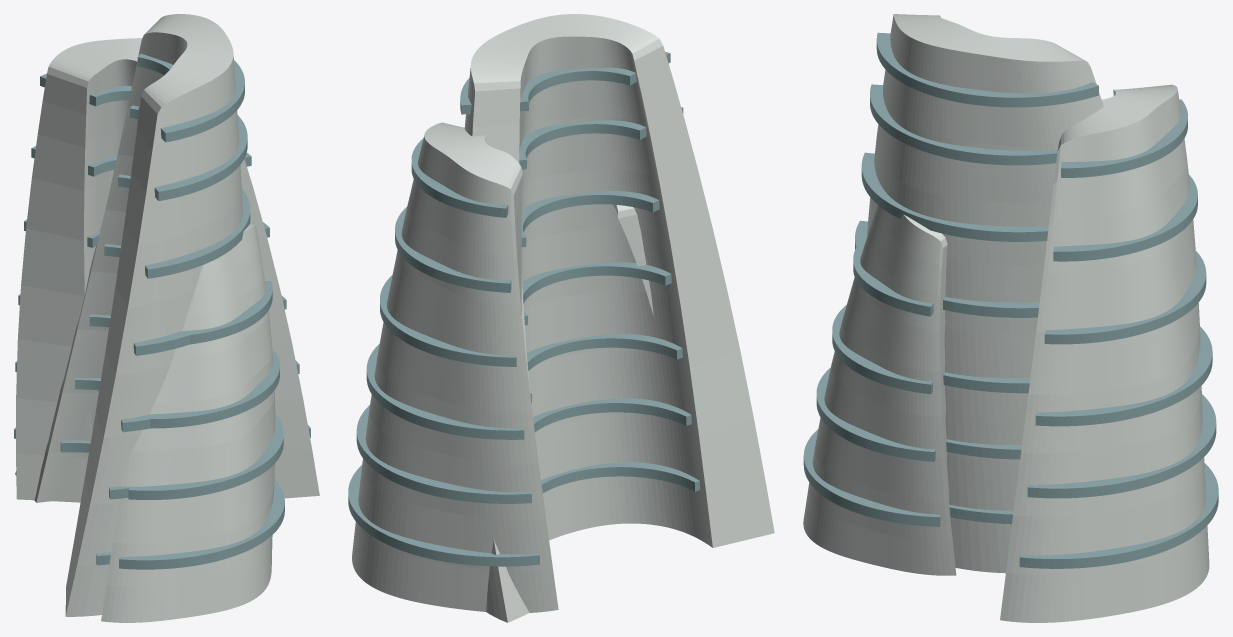
The model's file is A_massing.glb.
The picture shows the model from 3 angles, left to right: view 1: azimuth 30°, elevation 25°; view 2: azimuth 150°, elevation 25°; view 3: azimuth 270°, elevation 25°; orthographic projection. The views are drawn at different scales.
Visible parts, largest first — view 1: URBAN_BACK_0, URBAN_BACK_2, URBAN_BACK_1, CITY_GROUND_2_0_1, CITY_GROUND_2_1_1, CITY_GROUND_2_2_1, CITY_GROUND_0_4_1, CITY_GROUND_0_5_1, CITY_GROUND_0_6_1, CITY_GROUND_2_3_1, CITY_GROUND_0_3_1, CITY_GROUND_1_5_-1 (+2 smaller); view 2: URBAN_BACK_0, URBAN_BACK_1, CITY_GROUND_1_0_1, CITY_GROUND_1_1_1, CITY_GROUND_1_2_1, CITY_GROUND_0_1_-1, CITY_GROUND_1_3_1, CITY_GROUND_0_0_-1, CITY_GROUND_0_2_-1, CITY_GROUND_0_3_-1, CITY_GROUND_0_4_-1, CITY_GROUND_0_5_-1 (+4 smaller); view 3: URBAN_BACK_1, URBAN_BACK_0, URBAN_BACK_2, CITY_GROUND_0_6_1, CITY_GROUND_1_0_1, CITY_GROUND_1_1_1, CITY_GROUND_0_5_1, CITY_GROUND_1_2_1, CITY_GROUND_0_4_1, CITY_GROUND_1_3_1, CITY_GROUND_1_4_1, CITY_GROUND_2_0_1 (+8 smaller).
Boxes of the visible parts, box(x1,y1,x2,y2) form: URBAN_BACK_0: box(15, 14, 242, 616); URBAN_BACK_2: box(101, 223, 275, 622); URBAN_BACK_1: box(16, 38, 319, 502); CITY_GROUND_2_0_1: box(119, 480, 284, 569); CITY_GROUND_2_1_1: box(128, 414, 283, 499); CITY_GROUND_2_2_1: box(138, 351, 279, 428); CITY_GROUND_0_4_1: box(145, 188, 250, 278); CITY_GROUND_0_5_1: box(154, 115, 247, 200); CITY_GROUND_0_6_1: box(160, 60, 244, 142); CITY_GROUND_2_3_1: box(163, 281, 272, 344); CITY_GROUND_0_3_1: box(133, 329, 205, 355); CITY_GROUND_1_5_-1: box(89, 85, 131, 106); URBAN_BACK_0: box(464, 14, 774, 622); URBAN_BACK_1: box(352, 122, 558, 612); CITY_GROUND_1_0_1: box(348, 465, 539, 566); CITY_GROUND_1_1_1: box(356, 405, 531, 503); CITY_GROUND_1_2_1: box(366, 344, 524, 439); CITY_GROUND_0_1_-1: box(533, 398, 691, 432); CITY_GROUND_1_3_1: box(380, 275, 516, 366); CITY_GROUND_0_0_-1: box(541, 462, 699, 493); CITY_GROUND_0_2_-1: box(526, 334, 682, 402); CITY_GROUND_0_3_-1: box(522, 262, 671, 325); CITY_GROUND_0_4_-1: box(521, 191, 659, 247); CITY_GROUND_0_5_-1: box(519, 120, 646, 169); URBAN_BACK_1: box(1000, 84, 1209, 622); URBAN_BACK_0: box(867, 14, 1103, 573); URBAN_BACK_2: box(803, 205, 956, 575); CITY_GROUND_0_6_1: box(876, 32, 1098, 107); CITY_GROUND_1_0_1: box(1019, 463, 1218, 568); CITY_GROUND_1_1_1: box(1027, 394, 1216, 498); CITY_GROUND_0_5_1: box(870, 84, 1057, 165); CITY_GROUND_1_2_1: box(1035, 326, 1212, 426); CITY_GROUND_0_4_1: box(861, 152, 1048, 241); CITY_GROUND_1_3_1: box(1044, 251, 1206, 344); CITY_GROUND_1_4_1: box(1053, 175, 1197, 261); CITY_GROUND_2_0_1: box(803, 429, 940, 526).
Bounding box in the file's own units: 3773 × 5530 × 4047.
